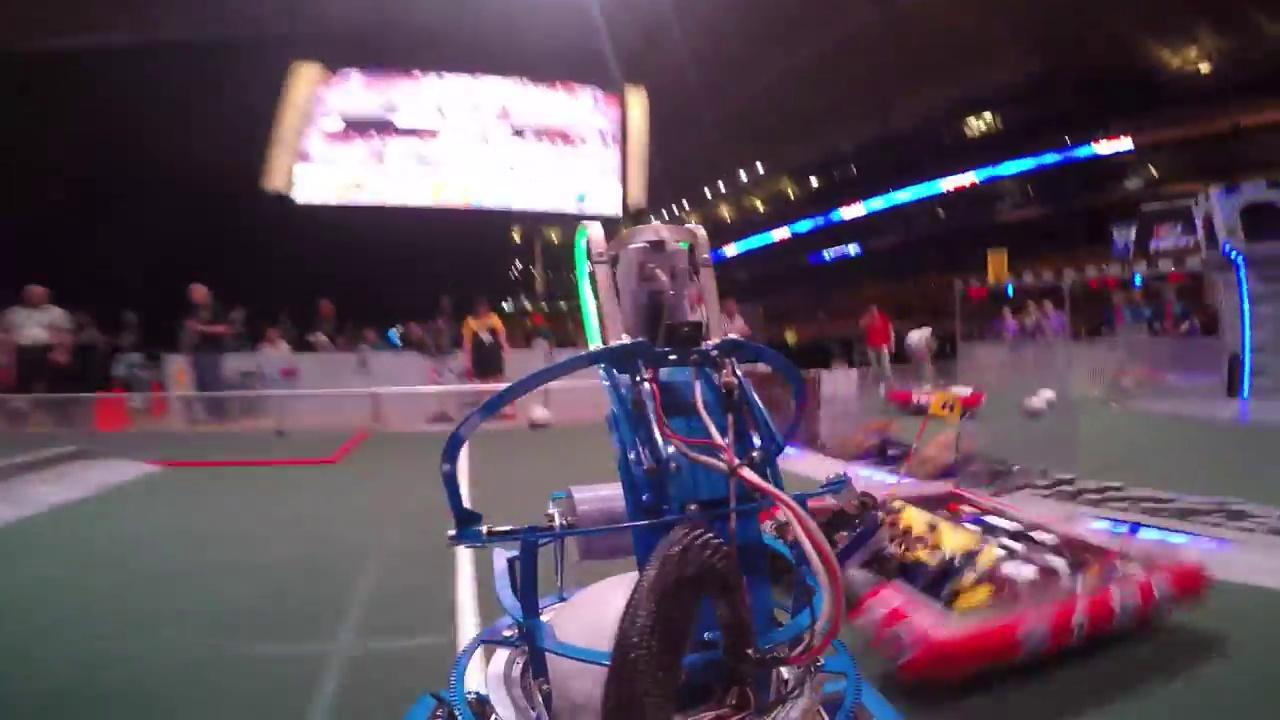robot: (759, 457, 1214, 701), (884, 375, 990, 420)
